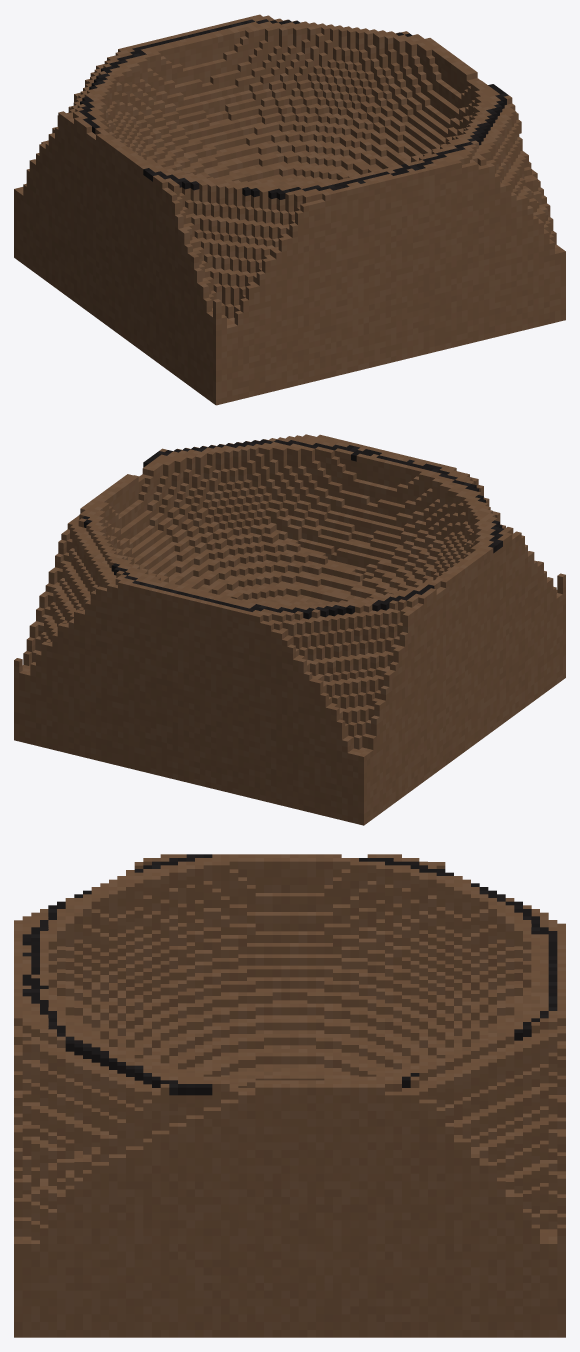
Rendered from vocano.fbx.
3 views of the same model, one above another, from view 1: azimuth 30°, elevation 25°; view 2: azimuth 150°, elevation 25°; view 3: azimuth 270°, elevation 25° (orthographic). The views are drawn at different scales.
Visible parts, largest first — view 1: Matrix; view 2: Matrix; view 3: Matrix.
Part boxes in pixels (left/top/right/bottom): Matrix: left=14, top=14, right=565, bottom=405; Matrix: left=14, top=434, right=565, bottom=825; Matrix: left=14, top=854, right=565, bottom=1337.
Size of the model in its own units: 64 by 32 by 64.
